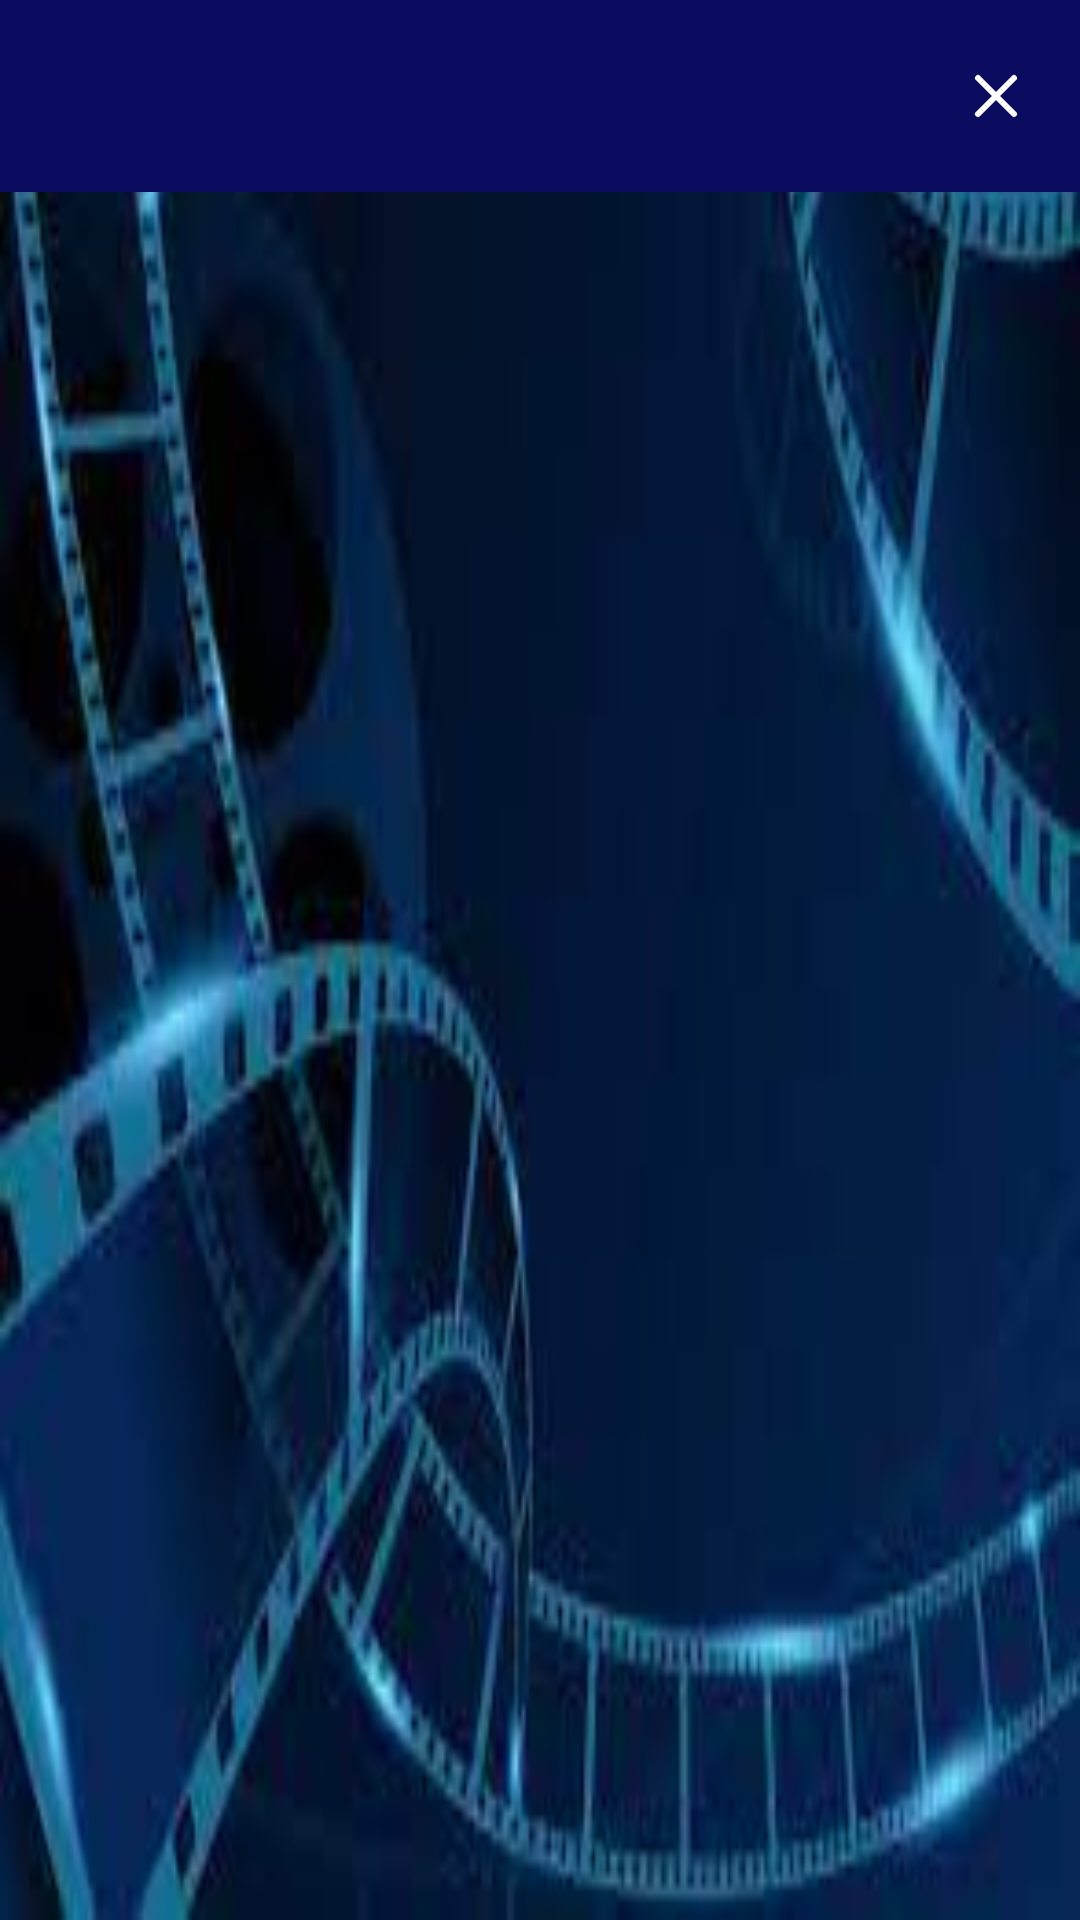

Named icons in this screenshot (1080x1920) and their centers, (x=x, y=y):
close: (x=996, y=95)
